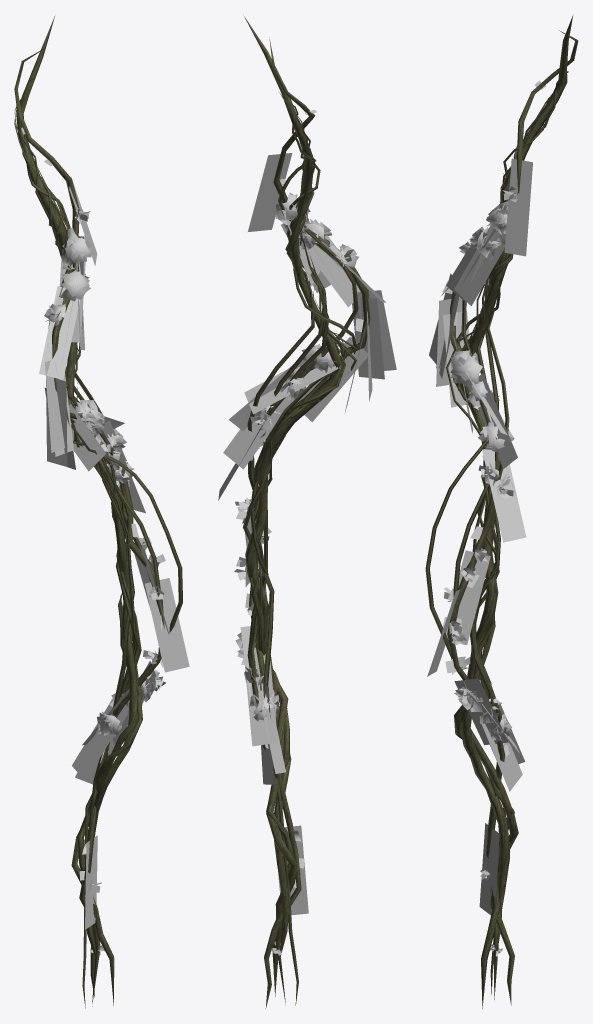
File: Liana3_L2.fbx
The picture shows the model from 3 angles, left to right: view 1: azimuth 30°, elevation 25°; view 2: azimuth 150°, elevation 25°; view 3: azimuth 270°, elevation 25°; orthographic projection. The views are drawn at different scales.
Parts seen in each view (by area): view 1: polySurface52; view 2: polySurface52; view 3: polySurface52.
Part boxes in pixels (x1,y1,x2,y2): polySurface52: [14, 16, 189, 1008]; polySurface52: [218, 16, 396, 1008]; polySurface52: [425, 15, 578, 1008].
Size of the model in its own units: 217 by 1433 by 201.
